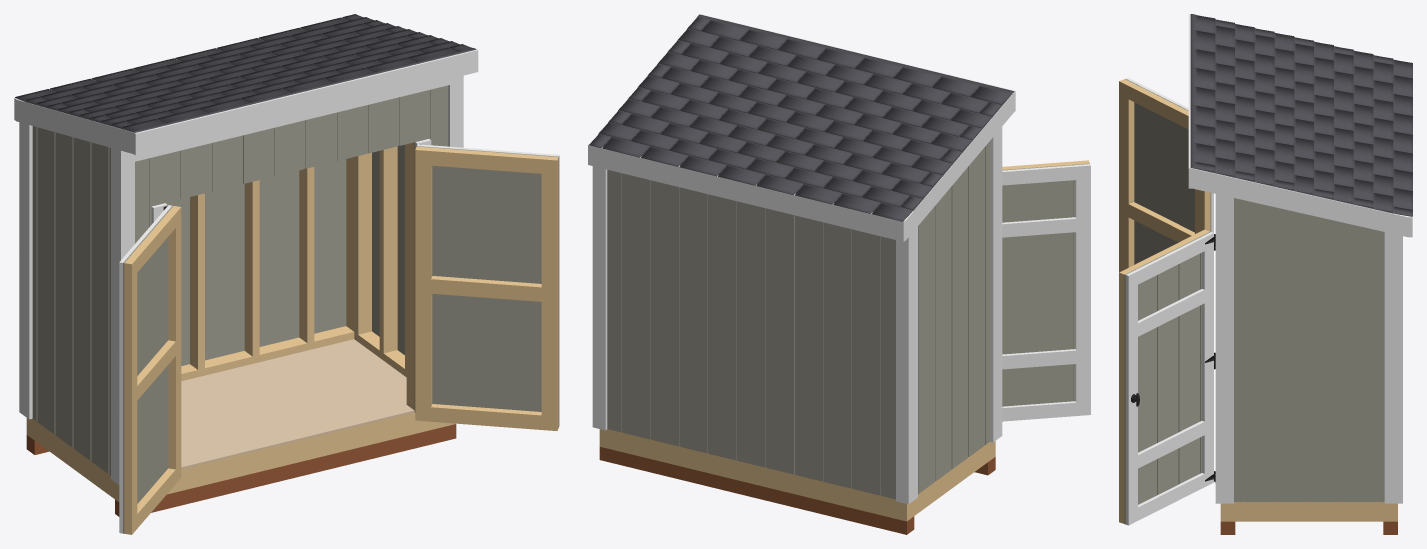
File: Shed_Test_01.glb
The picture shows the model from 3 angles, left to right: view 1: azimuth 30°, elevation 25°; view 2: azimuth 150°, elevation 25°; view 3: azimuth 270°, elevation 25°; orthographic projection. The views are drawn at different scales.
Parts seen in each view (by area): view 1: 4x8ft Plywood.001, 1x6in Board.004, T1-11 Exterior Siding 12in Panel.041, T1-11 Exterior Siding 12in Panel.042, T1-11 Exterior Siding 12in Panel.043, T1-11 Exterior Siding 12in Panel.028, T1-11 Exterior Siding 12in Panel.025, T1-11 Exterior Siding 12in Panel.024, 2x6in Board.001, T1-11 Exterior Siding 12in Panel.027, T1-11 Exterior Siding 12in Panel.015, T1-11 Exterior Siding 12in Panel.013 (+80 smaller); view 2: T1-11 Exterior Siding 12in Panel.018, T1-11 Exterior Siding 12in Panel.013, T1-11 Exterior Siding 12in Panel.019, T1-11 Exterior Siding 12in Panel.014, T1-11 Exterior Siding 12in Panel.015, T1-11 Exterior Siding 12in Panel.021, T1-11 Exterior Siding 12in Panel.016, T1-11 Exterior Siding 12in Panel.017, T1-11 Exterior Siding 12in Panel.022, 1x6in Board.003, T1-11 Exterior Siding 12in Panel.039, T1-11 Exterior Siding 12in Panel.038 (+56 smaller); view 3: T1-11 Exterior Siding 12in Panel.034, T1-11 Exterior Siding 12in Panel.031, T1-11 Exterior Siding 12in Panel.030, T1-11 Exterior Siding 12in Panel.033, 1x4in Board.007, 1x6in Board.001, 1x4in Board.011, T1-11 Exterior Siding 12in Panel.042, T1-11 Exterior Siding 12in Panel.043, T1-11 Exterior Siding 12in Panel.041, 2x6in Board.009, 1x4in Board.019 (+54 smaller).
Boxes of the visible parts, bbox=[...] form: 4x8ft Plywood.001: bbox=[181, 339, 414, 468]; 1x6in Board.004: bbox=[133, 49, 478, 155]; T1-11 Exterior Siding 12in Panel.041: bbox=[503, 152, 540, 411]; T1-11 Exterior Siding 12in Panel.042: bbox=[468, 150, 505, 409]; T1-11 Exterior Siding 12in Panel.043: bbox=[432, 147, 469, 406]; T1-11 Exterior Siding 12in Panel.028: bbox=[91, 142, 109, 473]; T1-11 Exterior Siding 12in Panel.025: bbox=[73, 137, 91, 460]; T1-11 Exterior Siding 12in Panel.024: bbox=[55, 132, 73, 447]; 2x6in Board.001: bbox=[119, 412, 455, 501]; T1-11 Exterior Siding 12in Panel.027: bbox=[37, 127, 55, 434]; T1-11 Exterior Siding 12in Panel.015: bbox=[207, 185, 238, 359]; T1-11 Exterior Siding 12in Panel.013: bbox=[269, 170, 299, 344]; T1-11 Exterior Siding 12in Panel.018: bbox=[795, 215, 824, 481]; T1-11 Exterior Siding 12in Panel.013: bbox=[651, 180, 680, 446]; T1-11 Exterior Siding 12in Panel.019: bbox=[824, 223, 853, 488]; T1-11 Exterior Siding 12in Panel.014: bbox=[680, 187, 709, 453]; T1-11 Exterior Siding 12in Panel.015: bbox=[709, 194, 737, 460]; T1-11 Exterior Siding 12in Panel.021: bbox=[623, 173, 651, 439]; T1-11 Exterior Siding 12in Panel.016: bbox=[738, 201, 766, 467]; T1-11 Exterior Siding 12in Panel.017: bbox=[767, 208, 795, 474]; T1-11 Exterior Siding 12in Panel.022: bbox=[853, 229, 881, 495]; 1x6in Board.003: bbox=[588, 144, 905, 241]; T1-11 Exterior Siding 12in Panel.039: bbox=[1041, 164, 1074, 403]; T1-11 Exterior Siding 12in Panel.038: bbox=[1008, 167, 1042, 405]; T1-11 Exterior Siding 12in Panel.034: bbox=[1242, 200, 1275, 501]; T1-11 Exterior Siding 12in Panel.031: bbox=[1276, 207, 1309, 501]; T1-11 Exterior Siding 12in Panel.030: bbox=[1309, 215, 1342, 501]; T1-11 Exterior Siding 12in Panel.033: bbox=[1342, 222, 1375, 501]; 1x4in Board.007: bbox=[1219, 194, 1233, 503]; 1x6in Board.001: bbox=[1192, 168, 1408, 237]; 1x4in Board.011: bbox=[1384, 232, 1399, 503]; T1-11 Exterior Siding 12in Panel.042: bbox=[1157, 247, 1179, 494]; T1-11 Exterior Siding 12in Panel.043: bbox=[1178, 236, 1200, 483]; T1-11 Exterior Siding 12in Panel.041: bbox=[1136, 258, 1157, 504]; 2x6in Board.009: bbox=[1228, 501, 1390, 521]; 1x4in Board.019: bbox=[1125, 270, 1137, 525].
Size of the model in its own units: 3.22 by 2.8 by 2.02.
